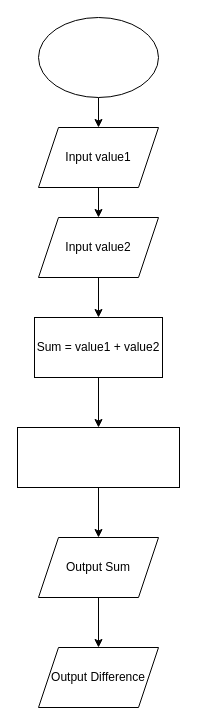
Image size: 197x725. Some labels were removed from this diagram. Here are the shapes that lost their labels. From the top down, the box of each, then its label:
(38, 16, 158, 98): Start
(16, 426, 180, 488): Difference = value2 - value1
